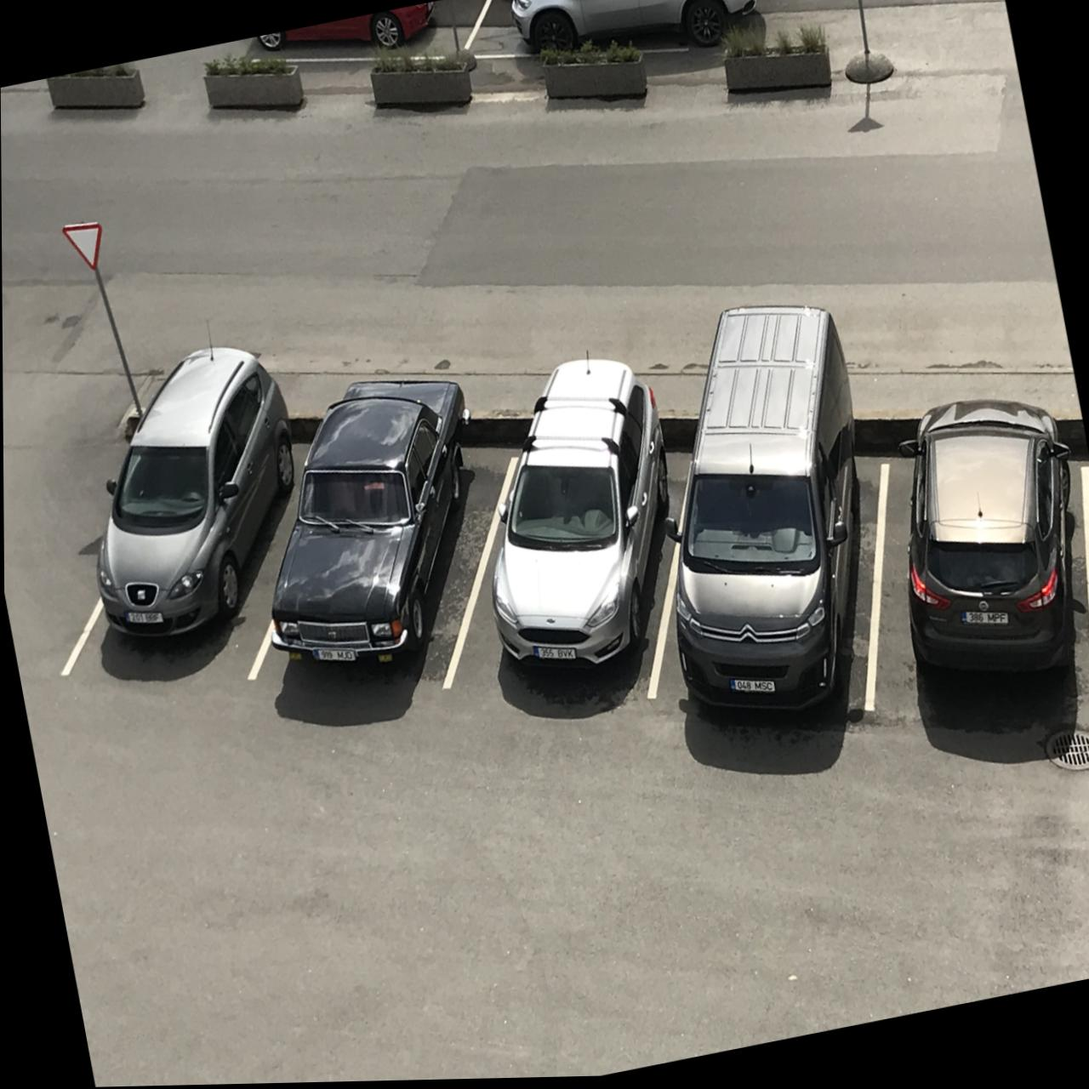cars: (218, 380, 571, 739), (608, 393, 936, 776), (411, 383, 729, 772), (30, 370, 338, 718), (838, 383, 1089, 770), (469, 0, 781, 102)
